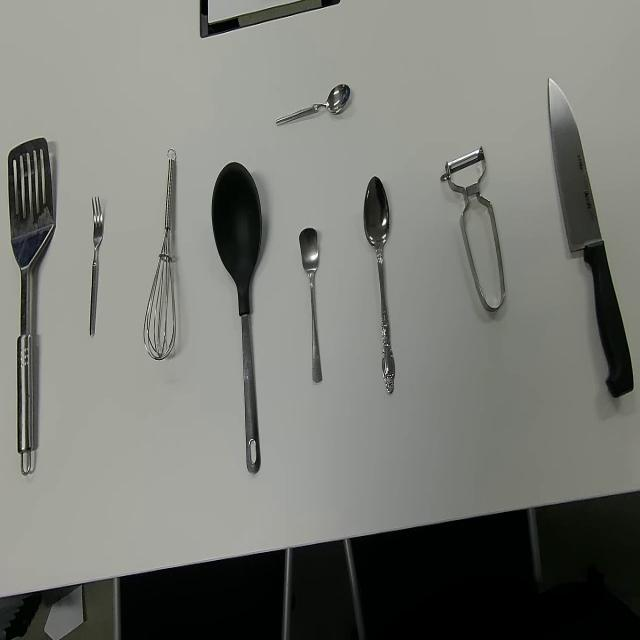Desert-Spoon: (362, 175, 396, 396)
Dinner-Fork: (88, 195, 104, 338)
Kitchen-Knife: (547, 76, 635, 400)
Peeler: (440, 143, 506, 313)
Serving-Spoon: (210, 160, 262, 476), (7, 134, 55, 476)
Tea-Spoon: (297, 226, 322, 385), (275, 82, 351, 128)
Whisk: (143, 146, 177, 361)
